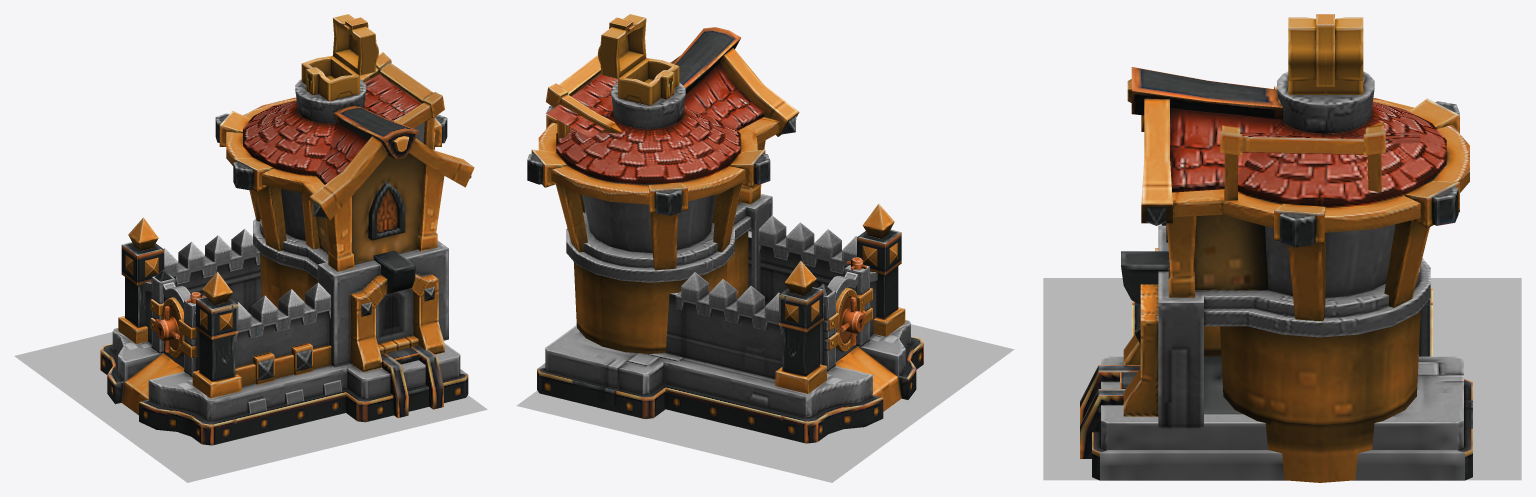
The model's file is C_Treasury_LV5.fbx.
The picture shows the model from 3 angles, left to right: view 1: azimuth 30°, elevation 25°; view 2: azimuth 150°, elevation 25°; view 3: azimuth 270°, elevation 25°; orthographic projection. The views are drawn at different scales.
Parts seen in each view (by area): view 1: Teasury_LV05_0_mesh, Teasury_LV05_1_mesh; view 2: Teasury_LV05_0_mesh, Teasury_LV05_1_mesh; view 3: Teasury_LV05_0_mesh, Teasury_LV05_1_mesh.
Boxes of the visible parts, x1=… form: Teasury_LV05_0_mesh: x1=100, y1=14, x2=474, y2=445; Teasury_LV05_1_mesh: x1=14, y1=332, x2=487, y2=482; Teasury_LV05_0_mesh: x1=527, y1=14, x2=923, y2=443; Teasury_LV05_1_mesh: x1=516, y1=324, x2=1014, y2=482; Teasury_LV05_0_mesh: x1=1080, y1=14, x2=1472, y2=482; Teasury_LV05_1_mesh: x1=1043, y1=278, x2=1521, y2=480.
Size of the model in its own units: 140 by 122 by 120.
